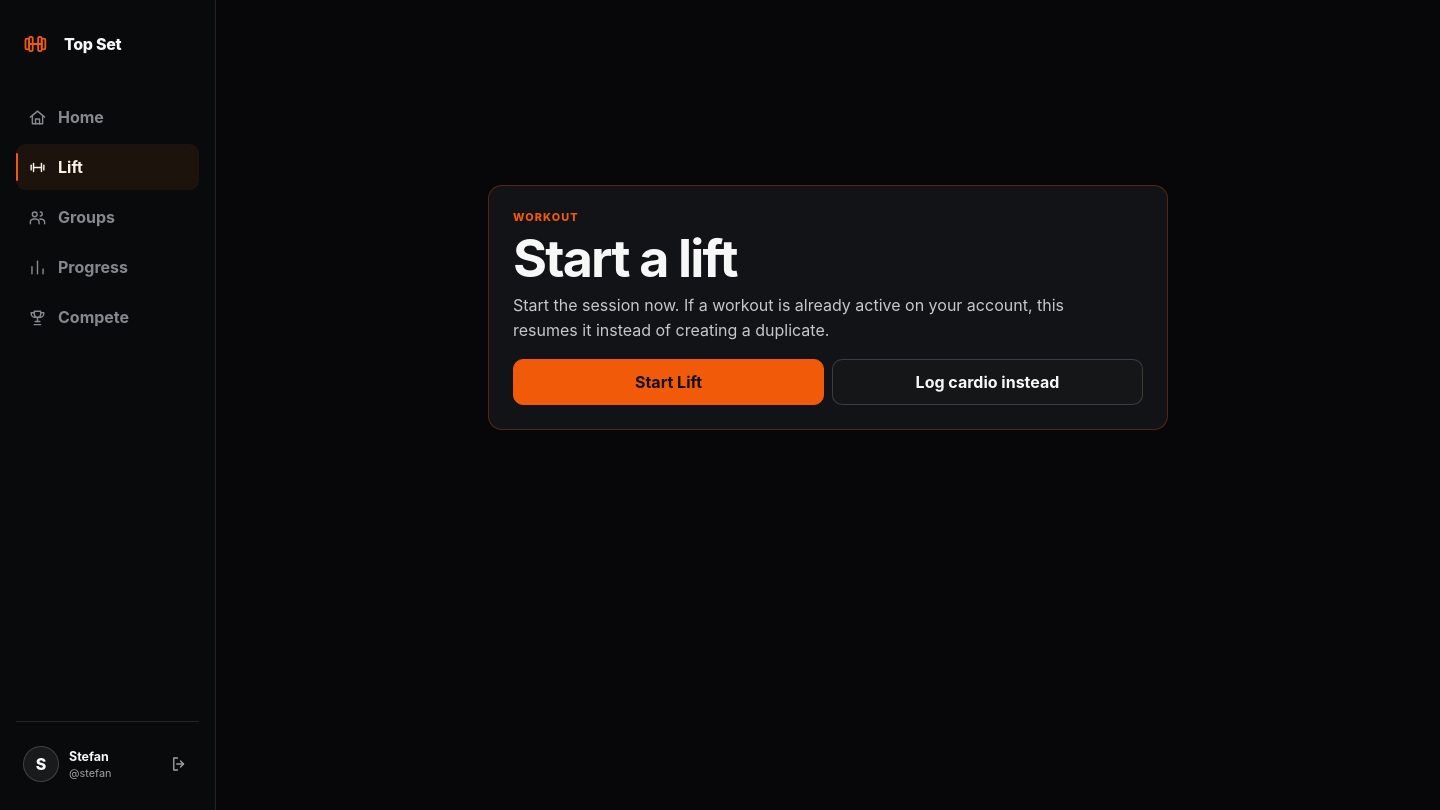
Test: workout session presentation › starts the visible clock immediately while session creation is still in flight
Click the button "Start Lift" at [668, 382], box [513, 359, 824, 405]
Wait 4000 ms
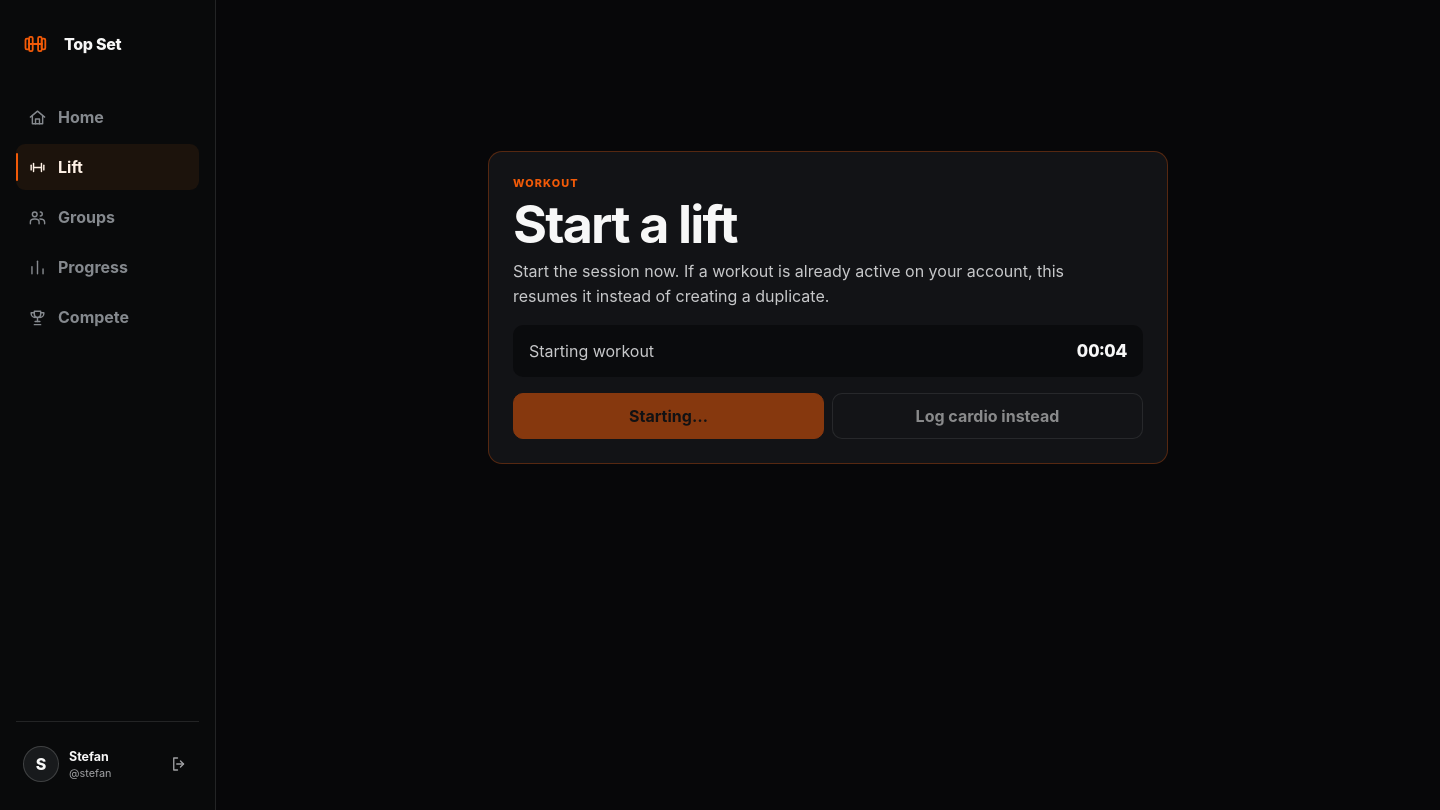
Now the text "00:04" is shown, box [1077, 340, 1127, 362]
